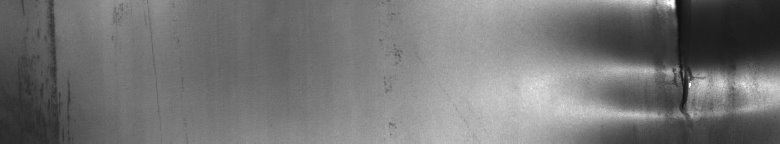ke: (618, 4, 726, 124)
